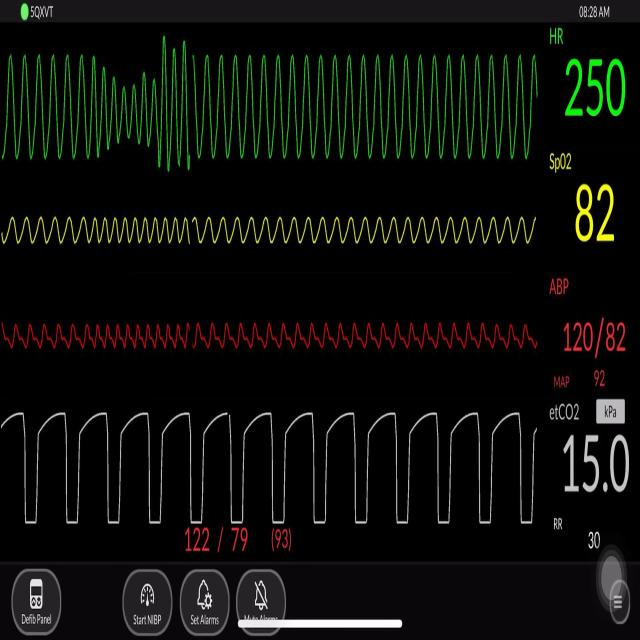danger: (151, 29, 539, 175), (8, 34, 106, 170), (118, 65, 156, 154)
